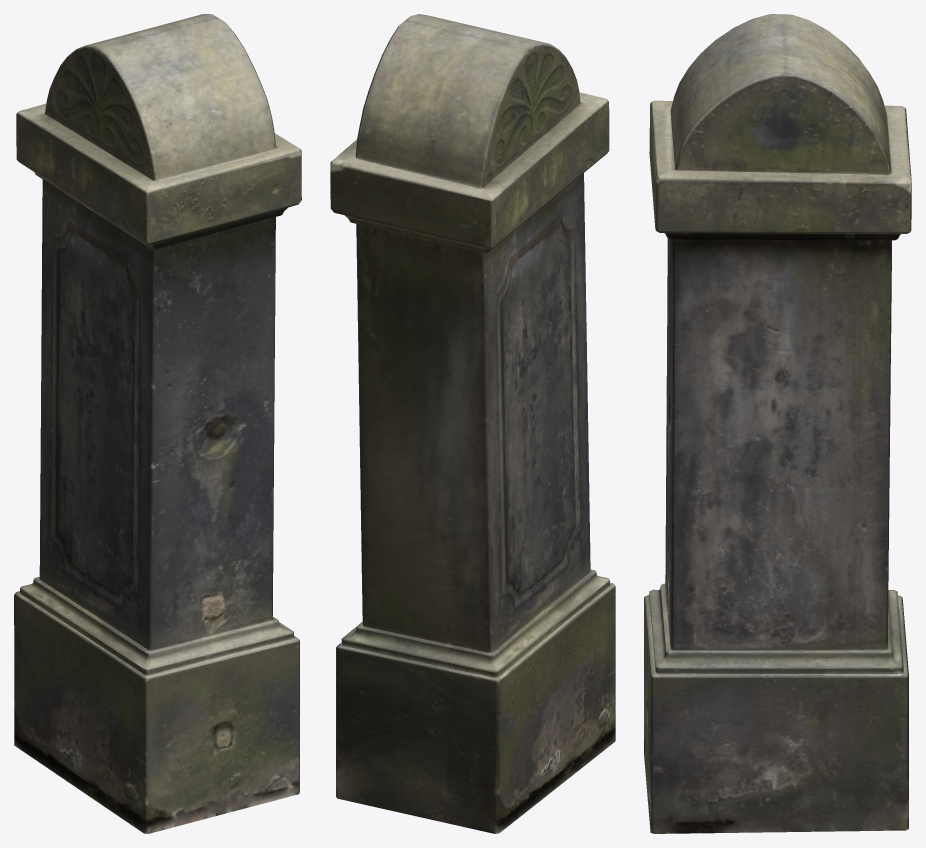
Rendered from sm_PlatformPillars_01_03.fbx.
3 views of the same model, side by side, from view 1: azimuth 30°, elevation 25°; view 2: azimuth 150°, elevation 25°; view 3: azimuth 270°, elevation 25° (orthographic). The views are drawn at different scales.
Visible parts, largest first — view 1: sm_PlatformPillars_01_03_LOD0; view 2: sm_PlatformPillars_01_03_LOD0; view 3: sm_PlatformPillars_01_03_LOD0.
Boxes of the visible parts, left/top/right/bottom form: sm_PlatformPillars_01_03_LOD0: left=14, top=14, right=301, bottom=833; sm_PlatformPillars_01_03_LOD0: left=330, top=14, right=615, bottom=833; sm_PlatformPillars_01_03_LOD0: left=644, top=14, right=911, bottom=833.
Size of the model in its own units: 28.23 by 37.42 by 116.
